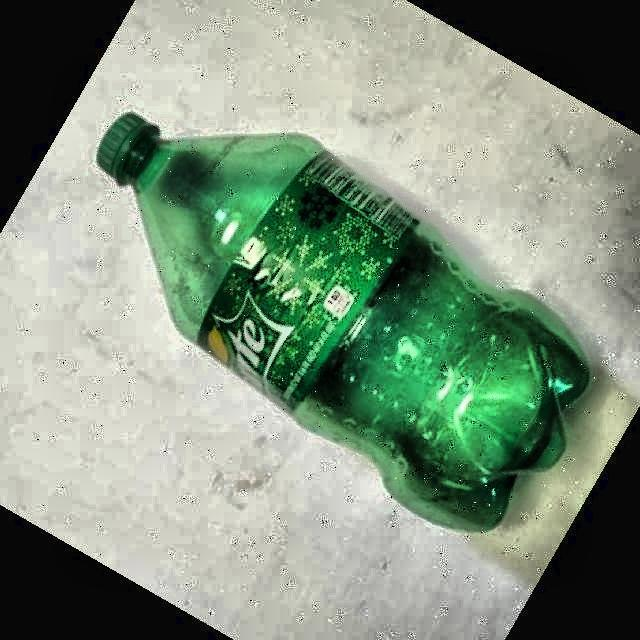plastic: (98, 112, 590, 529)
